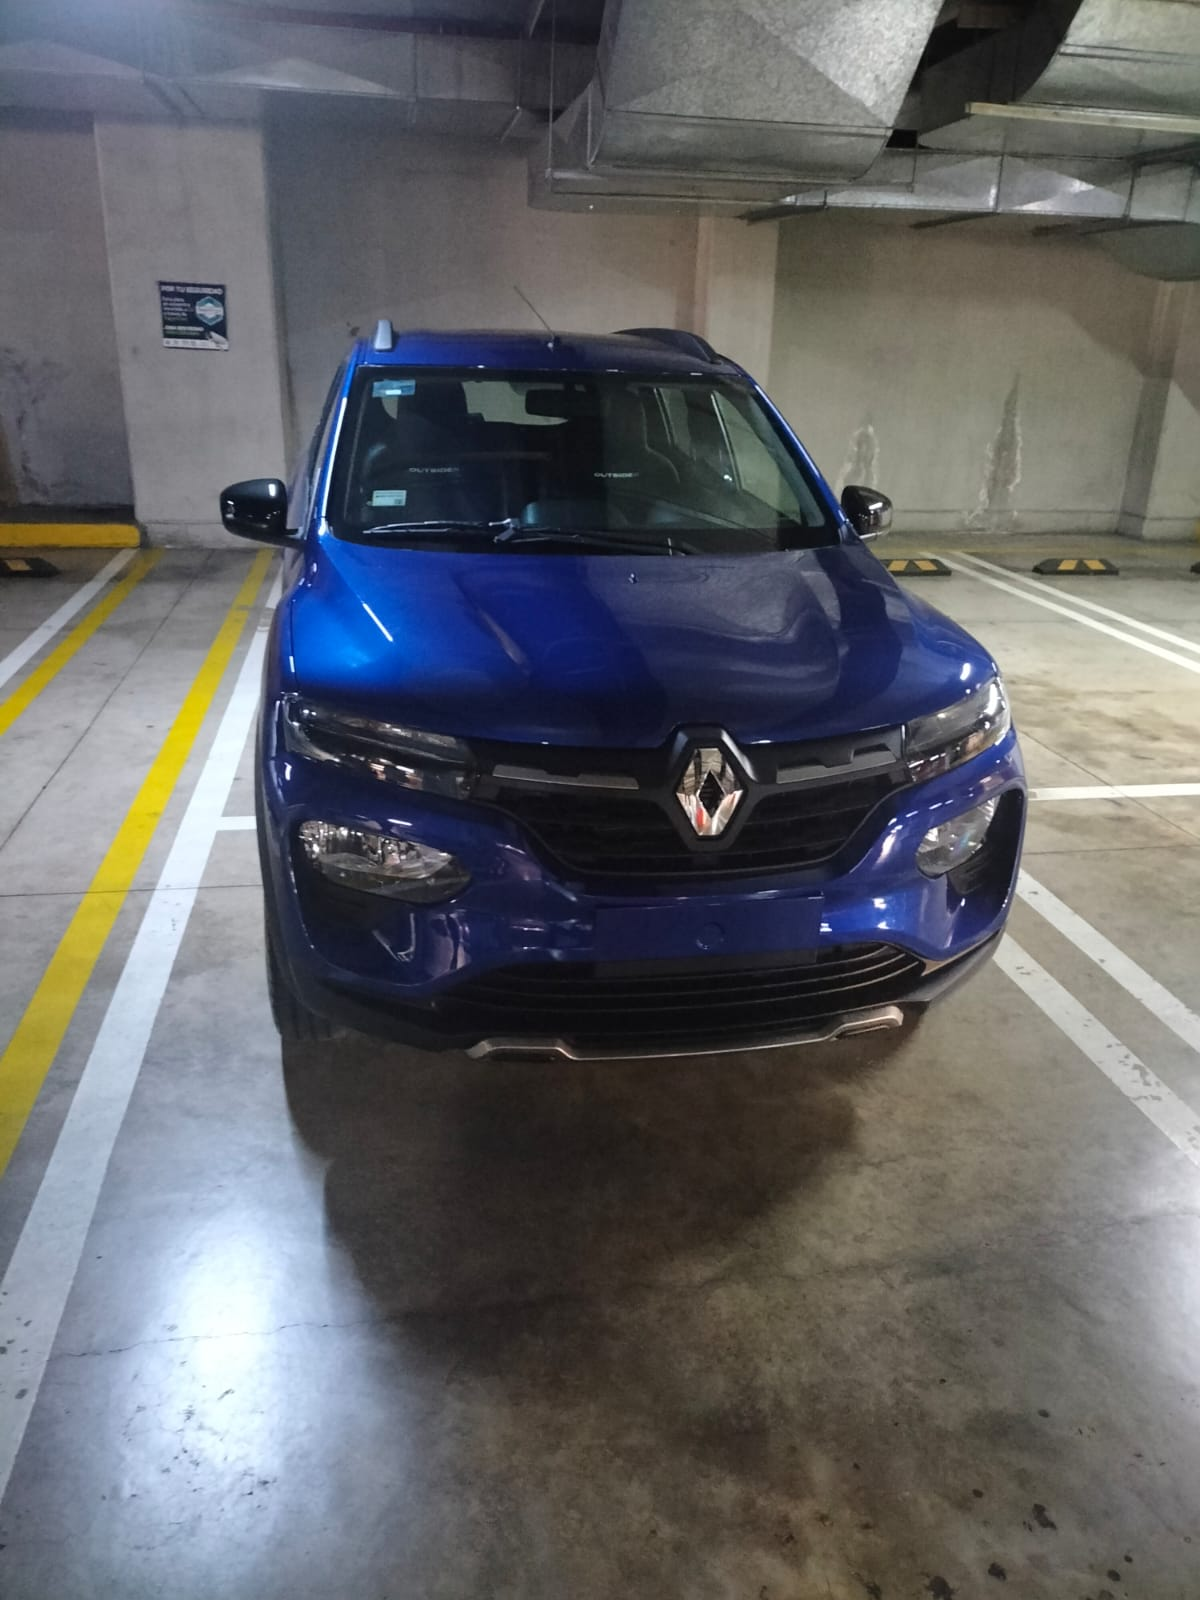Auto: (216, 314, 1034, 1065)
